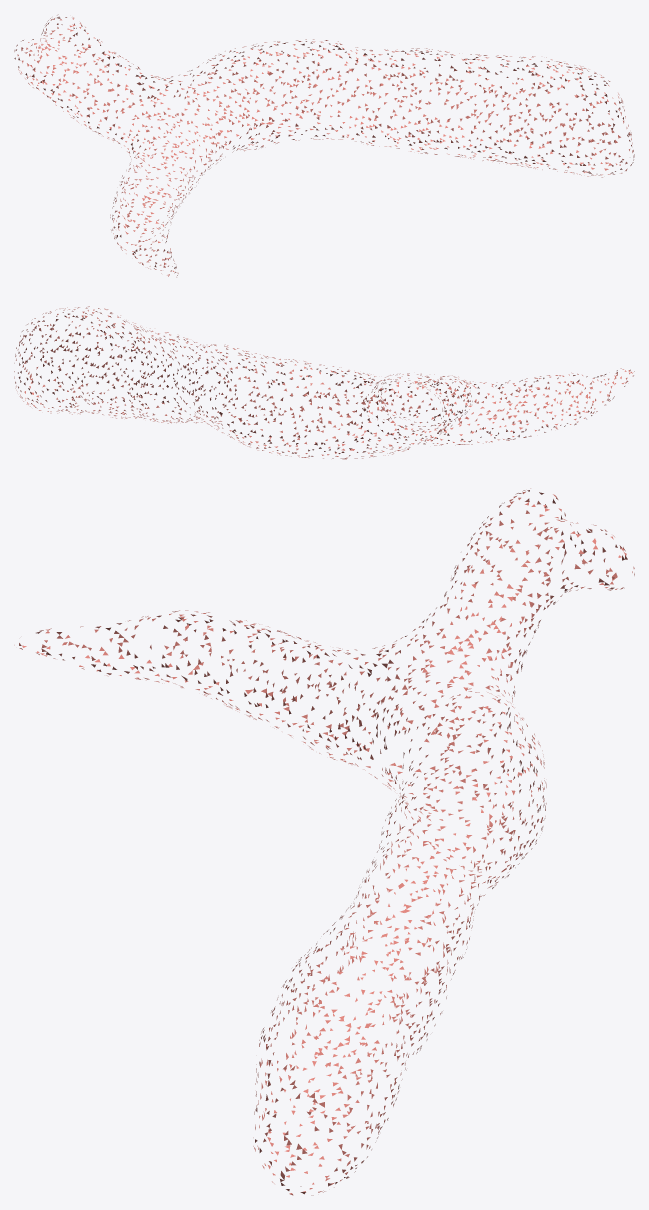
The model's file is morph_001.glb.
3 renders of one model, top to bottom at view 1: azimuth 30°, elevation 25°; view 2: azimuth 150°, elevation 25°; view 3: azimuth 270°, elevation 25°, orthographic. The views are drawn at different scales.
Size of the model in its own units: 123 by 43.32 by 76.48.
